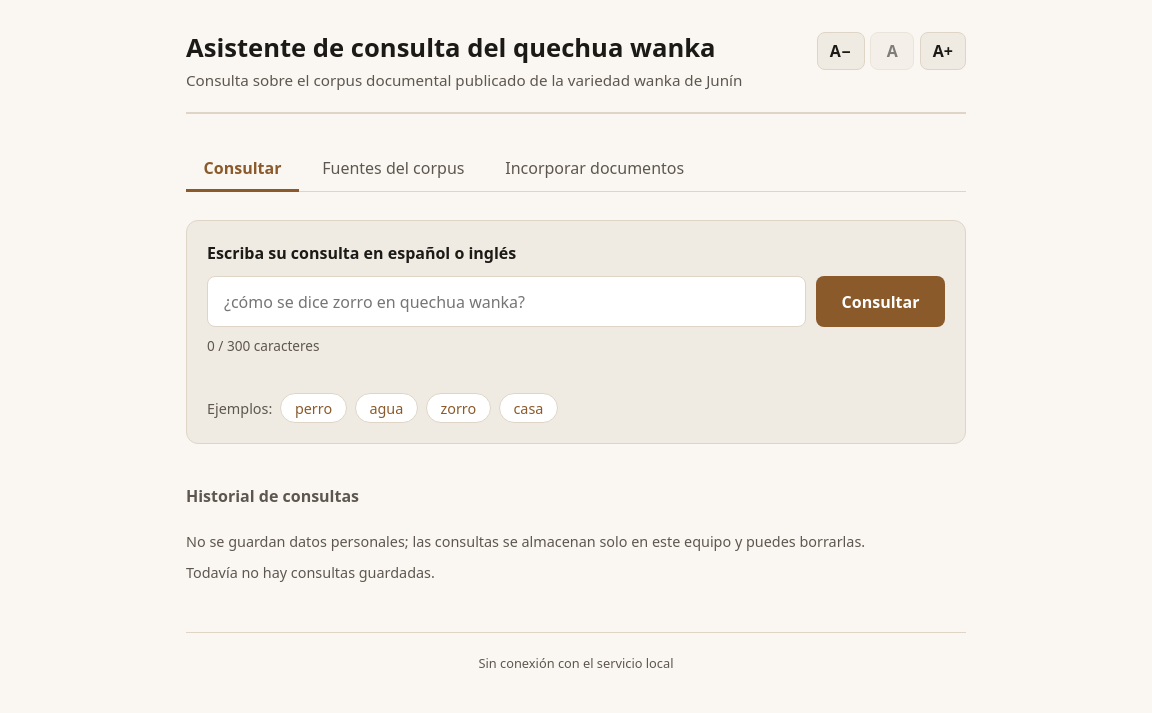
Scenario: tamaño del texto › A+, A− y Restablecer cambian el tamaño y los extremos se deshabilitan
The width and height of the screenshot is (1152, 713).
Expected: the button named "Restablecer tamaño del texto" is disabled, [870, 32, 914, 70]
Click the button named "Reducir tamaño del texto".
click(841, 51)  # box [817, 32, 865, 70]
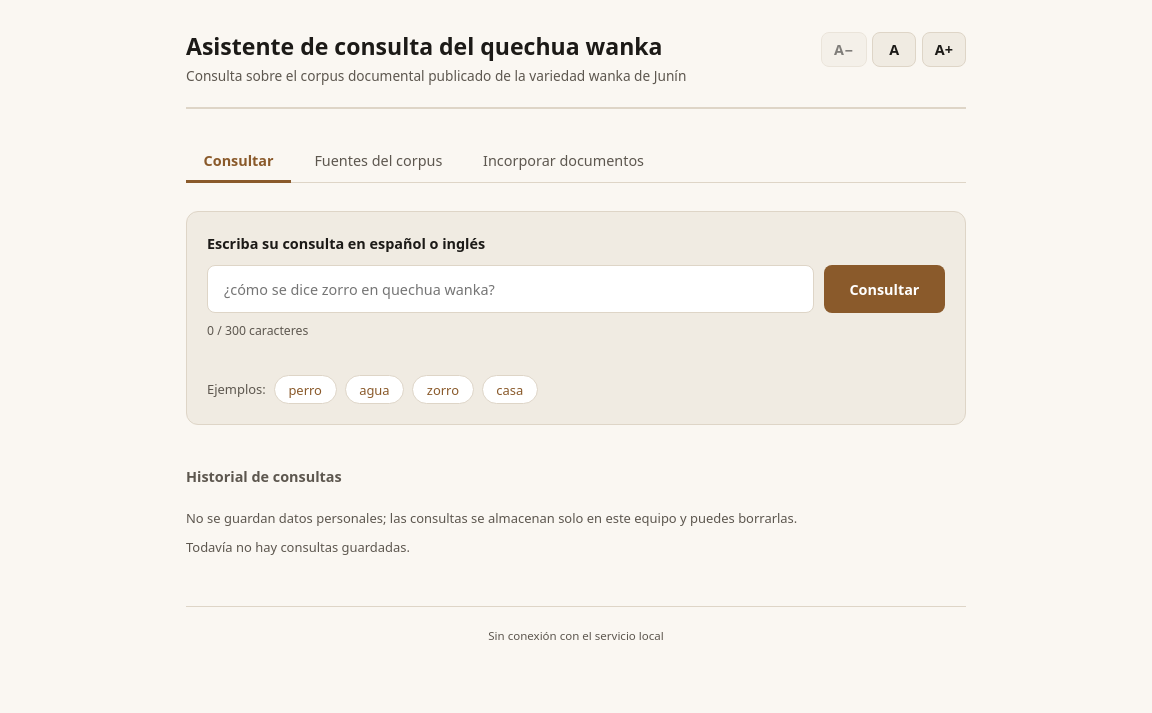
Result: the button named "Reducir tamaño del texto" is disabled at [821, 32, 867, 67]
Click the button named "Aumentar tamaño del texto".
click(944, 50)  # box [922, 32, 966, 67]
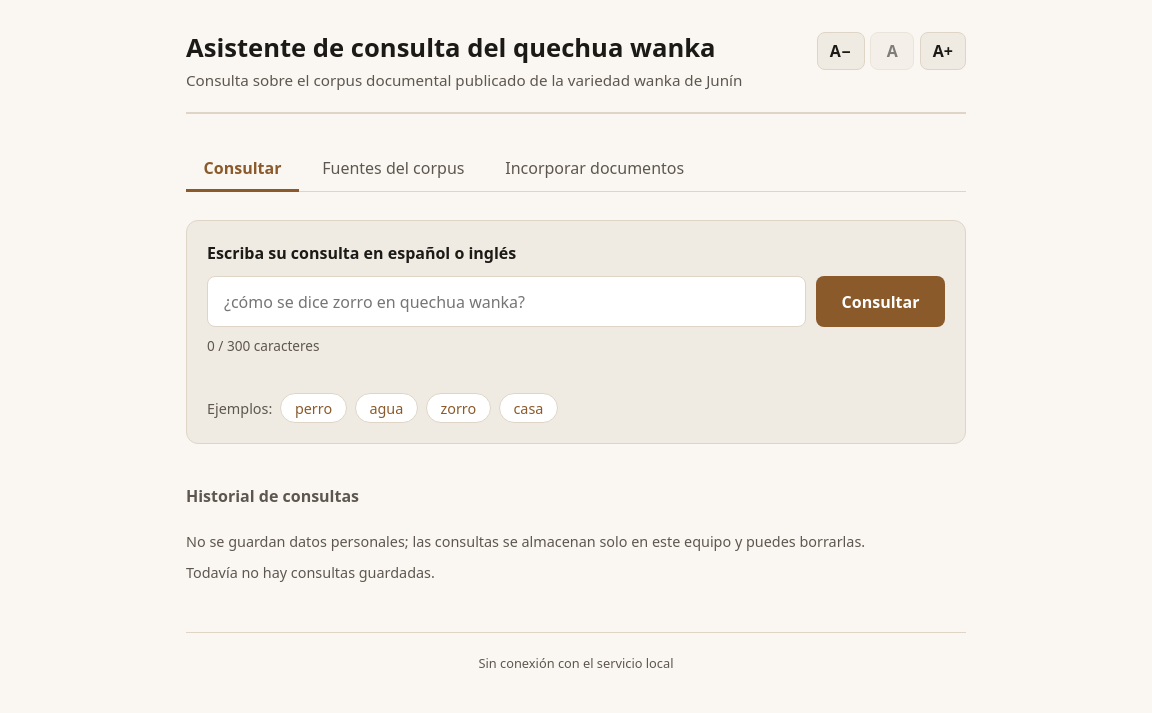
Click the button named "Aumentar tamaño del texto".
click(943, 51)  # box [920, 32, 966, 70]
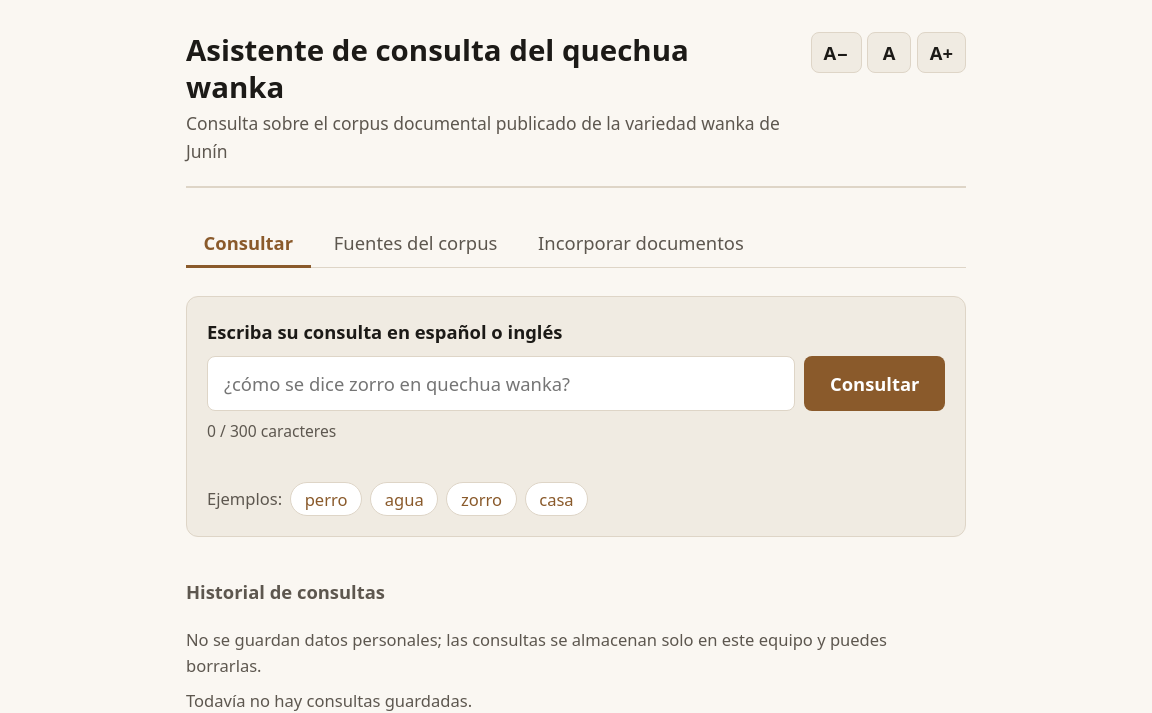
Click the button named "Aumentar tamaño del texto".
click(941, 53)  # box [917, 32, 966, 73]
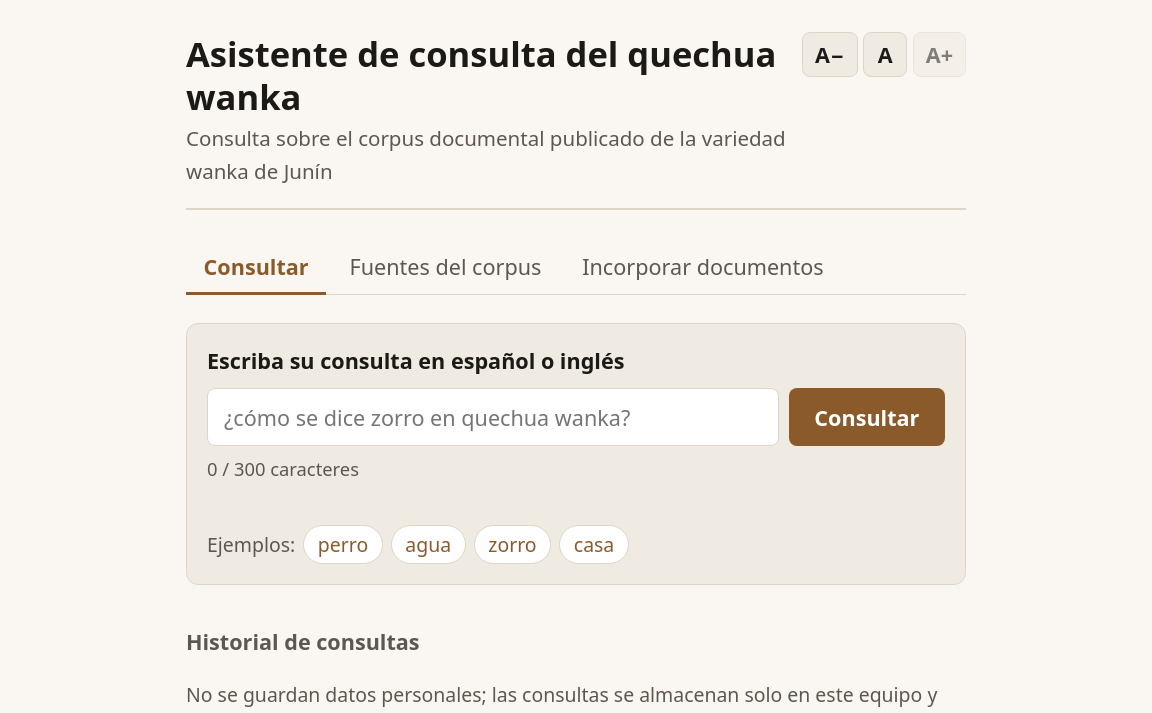
Result: the button named "Aumentar tamaño del texto" is disabled at [913, 32, 966, 77]
Click the button named "Restablecer tamaño del texto".
click(885, 55)  # box [863, 32, 907, 77]
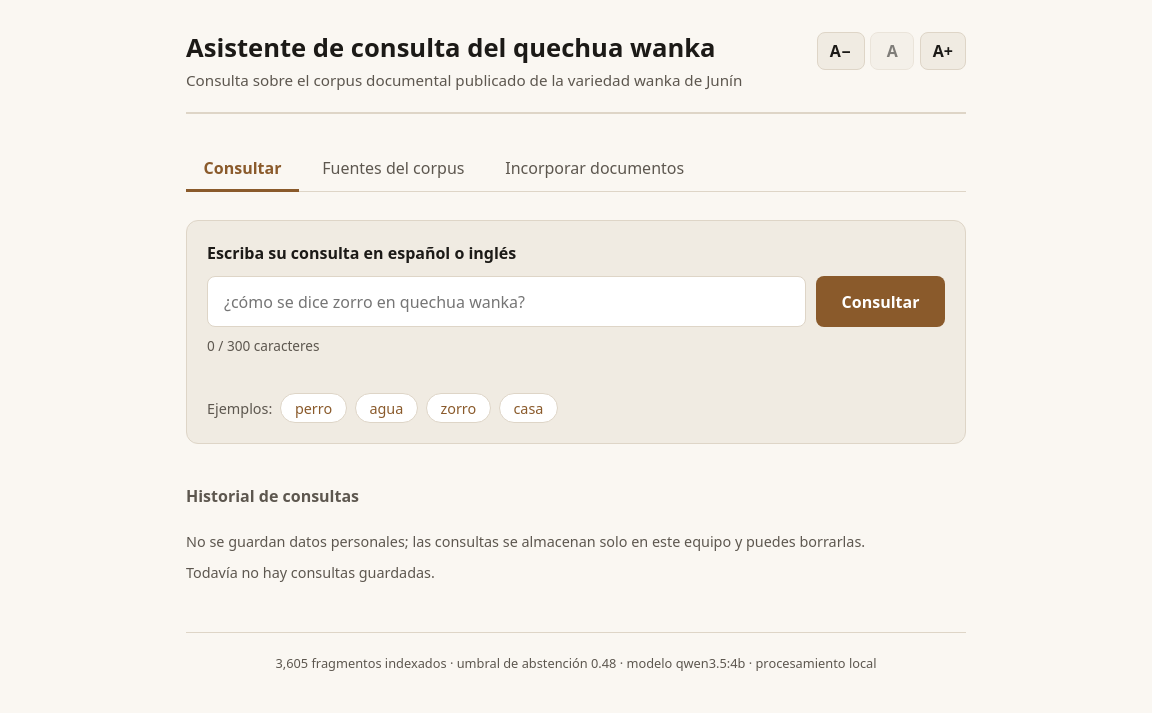
Result: the text "fragmentos indexados" is shown at [308, 654, 591, 672]
